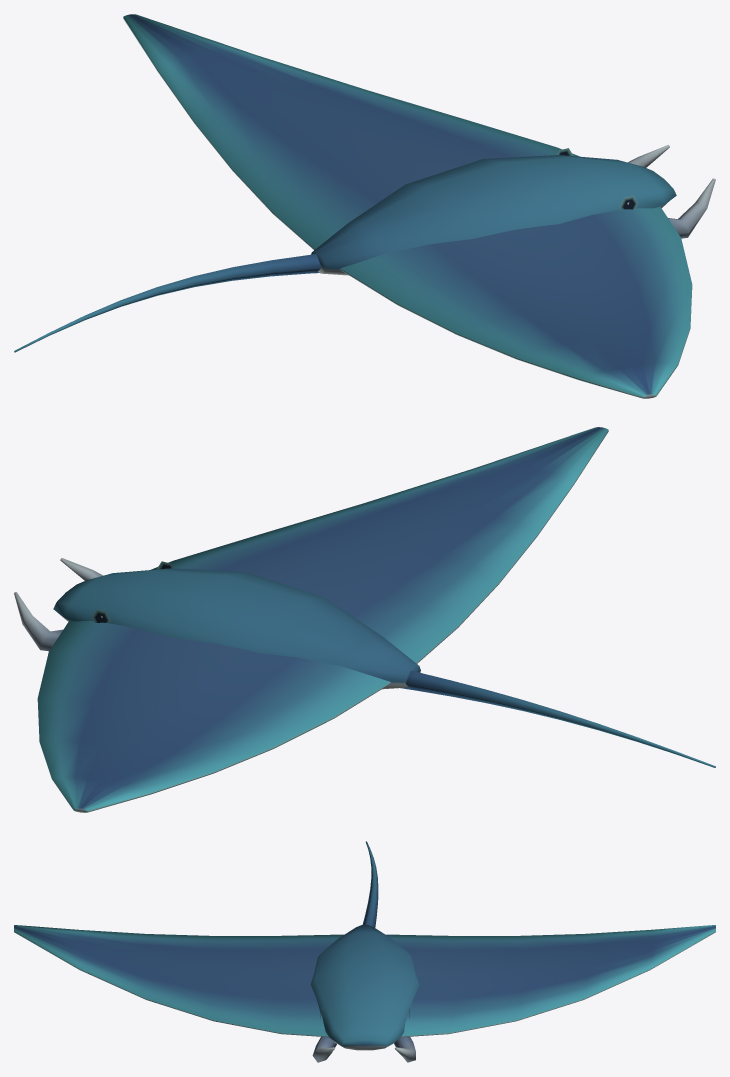
File: creature-manta.glb
The picture shows the model from 3 angles, top to bottom: view 1: azimuth 30°, elevation 25°; view 2: azimuth 150°, elevation 25°; view 3: azimuth 270°, elevation 25°; orthographic projection. The views are drawn at different scales.
Parts seen in each view (by area): view 1: creature-manta.002; view 2: creature-manta.002; view 3: creature-manta.002.
Boxes of the visible parts, left/top/right/bottom form: creature-manta.002: left=14, top=14, right=715, bottom=398; creature-manta.002: left=14, top=427, right=715, bottom=812; creature-manta.002: left=14, top=841, right=715, bottom=1062.
Bounding box in the file's own units: 4.12 × 0.4237 × 5.46.
